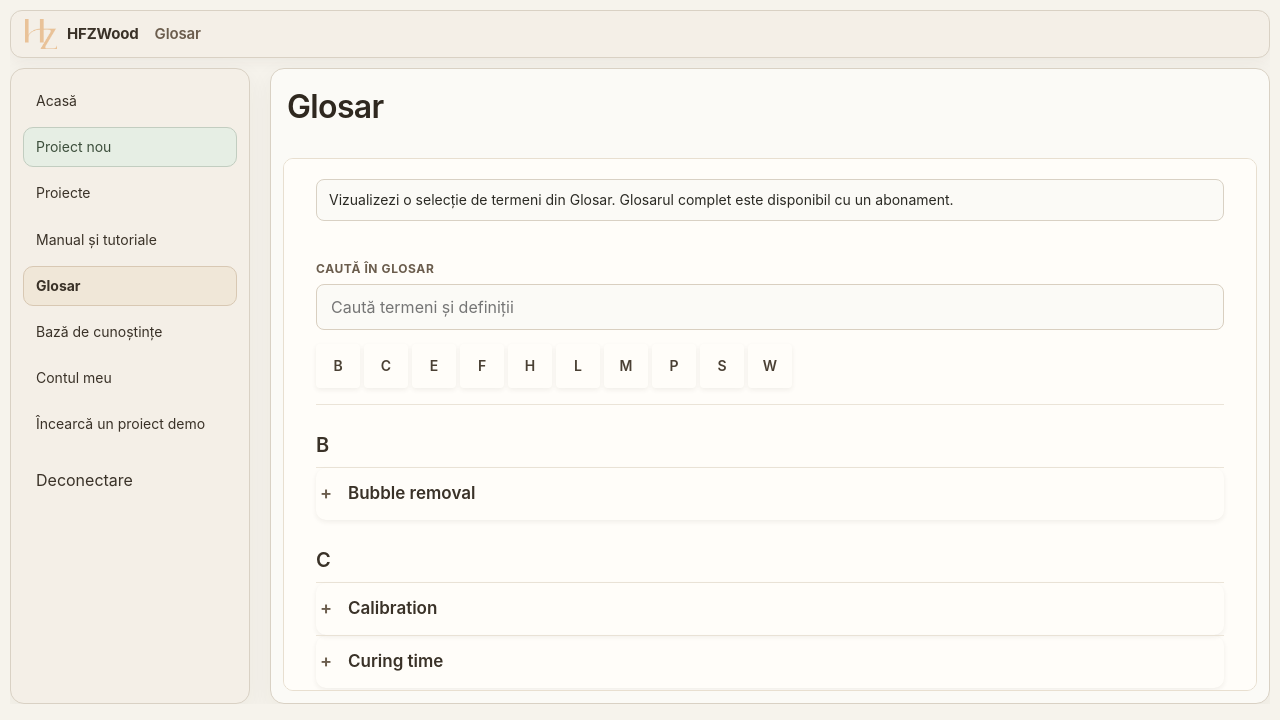
Test: GlossaryPage › jumps directly to a letter section from the A–Z index
The width and height of the screenshot is (1280, 720).
Click the button "F" at (482, 366), box top-left (460, 344), bottom-right (504, 388)
(page scrolled)
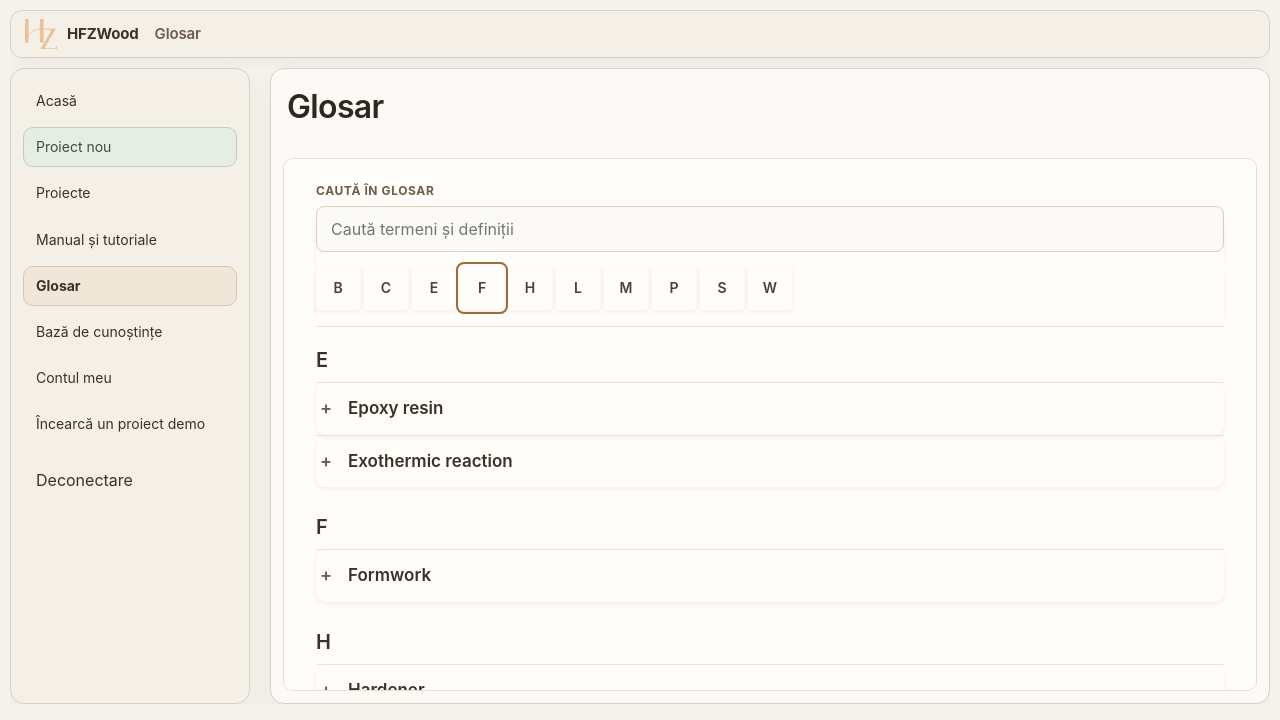
Check: the element with id "glossary-letter-f" is shown, box top-left (316, 488), bottom-right (1224, 602)
